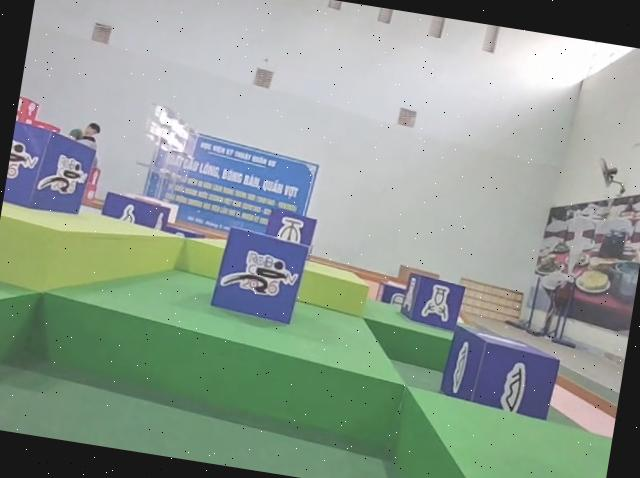R1 Blue: (210, 225, 314, 328), (2, 118, 96, 218)
R2 Fake Blue: (264, 206, 318, 247)
R2 Real Blue: (437, 323, 562, 421), (398, 270, 466, 333), (100, 192, 173, 234)
